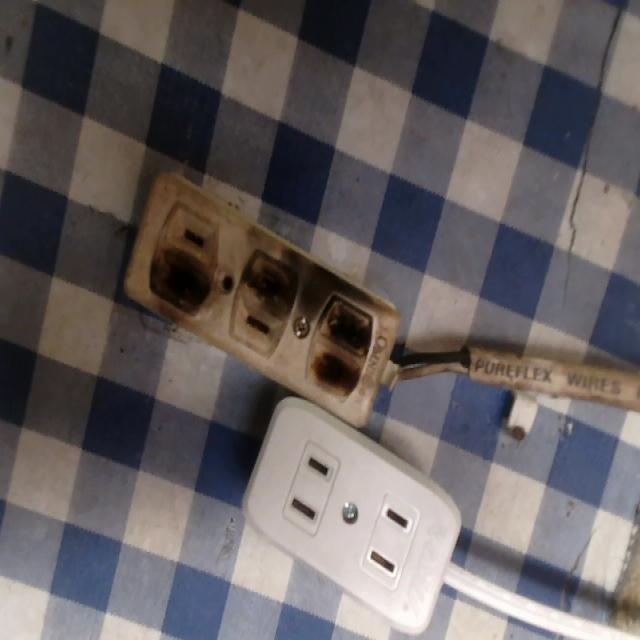-: (310, 284, 380, 405), (142, 236, 224, 321), (245, 232, 304, 313)
